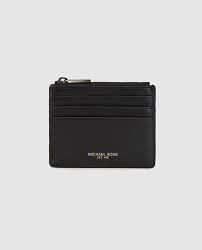monedero: (48, 76, 156, 169)
